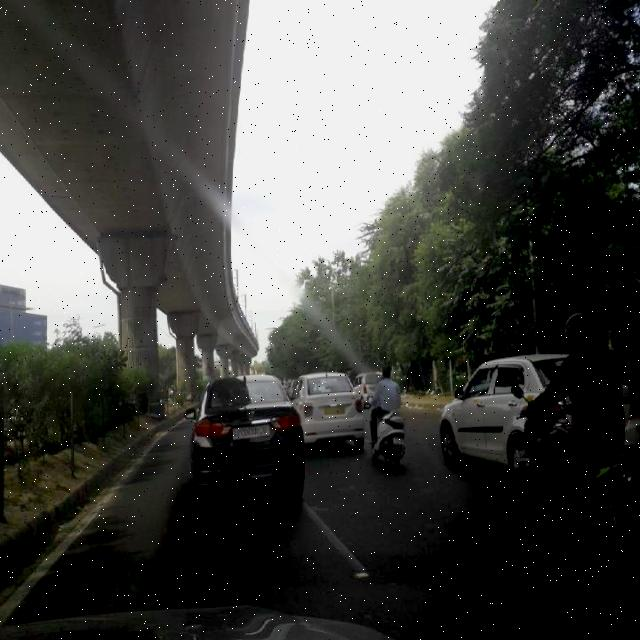D44: (298, 491, 381, 586)
